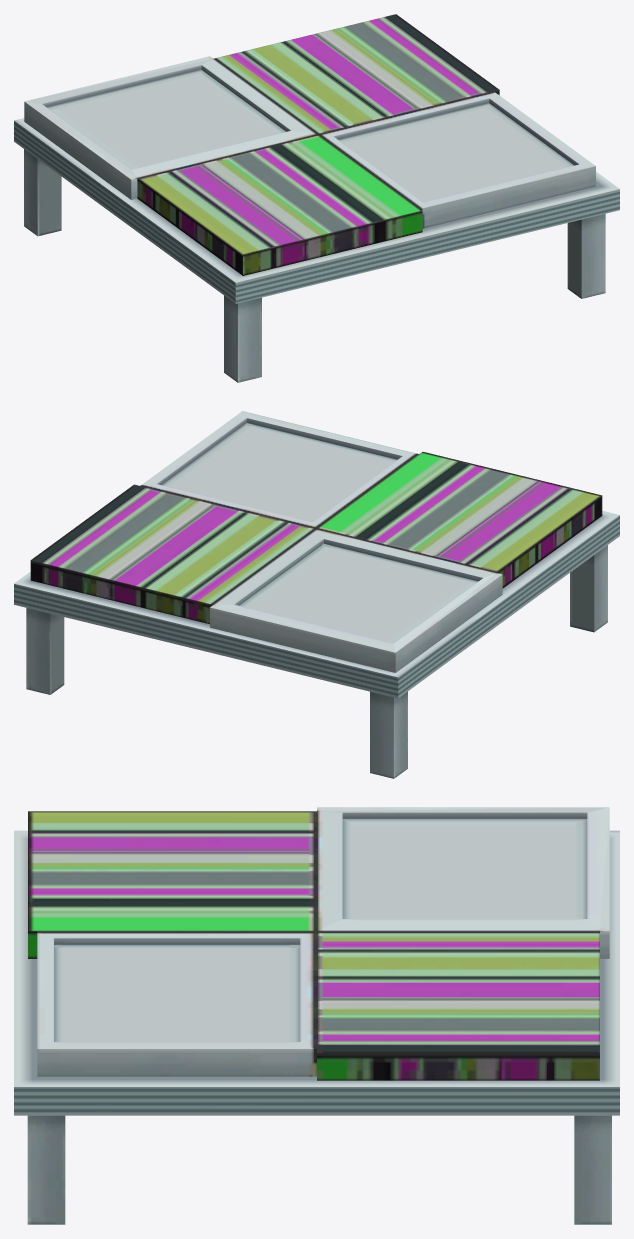
File: furni_0200605_02.FBX
3 views of the same model, one above another, from view 1: azimuth 30°, elevation 25°; view 2: azimuth 150°, elevation 25°; view 3: azimuth 270°, elevation 25° (orthographic). The views are drawn at different scales.
Visible parts, largest first — view 1: furni_0200605_02; view 2: furni_0200605_02; view 3: furni_0200605_02.
Boxes of the visible parts, bbox=[...] form: furni_0200605_02: bbox=[14, 14, 619, 382]; furni_0200605_02: bbox=[14, 411, 619, 778]; furni_0200605_02: bbox=[14, 807, 619, 1224].
Size of the model in its own units: 160 by 50.36 by 160.
Materials: 1 (1 with a texture image).
